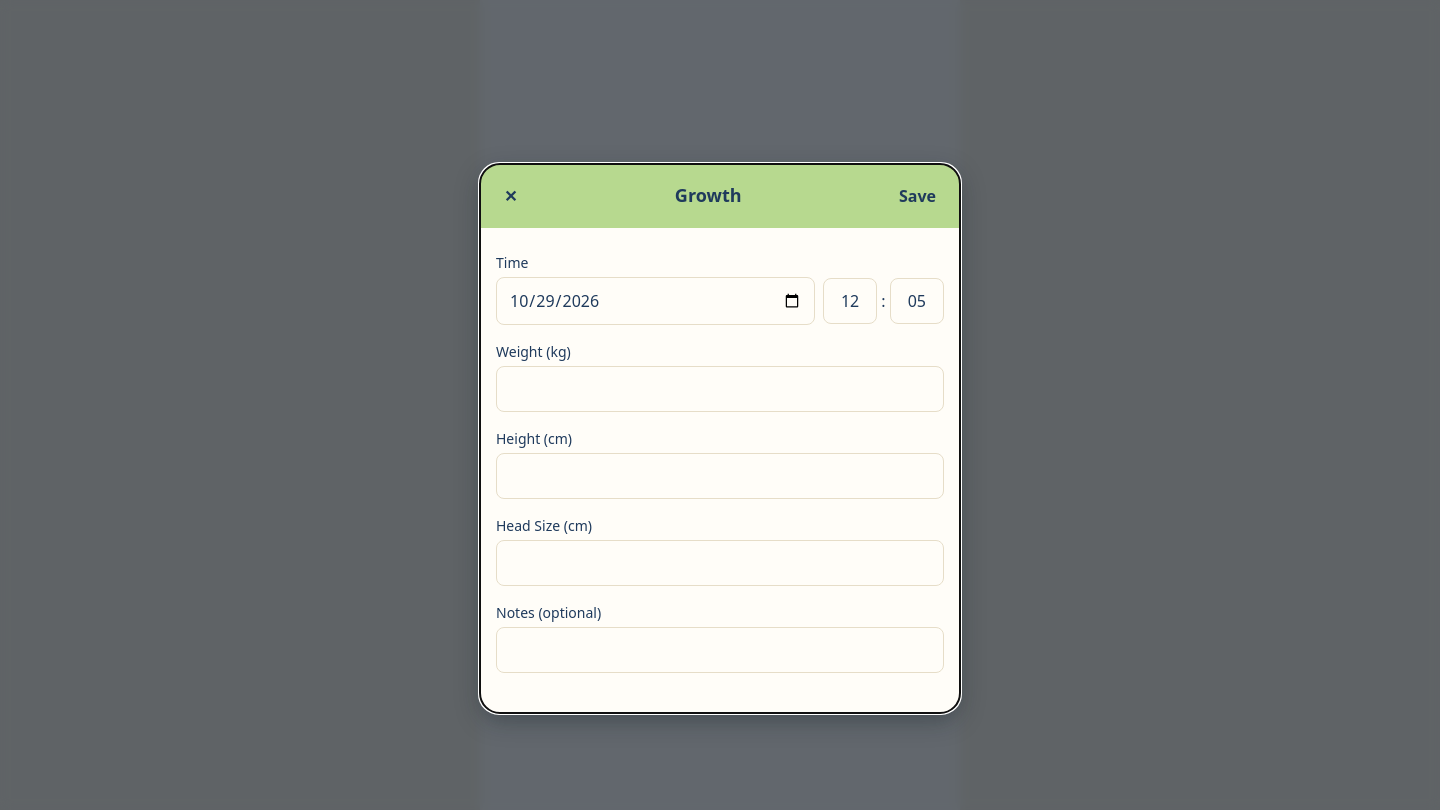
GrowthForm › refuses a weight of -1 with a message under the field
In the number field labelled "Weight (kg)": (720, 389) [496,366,944,412], type "-1"
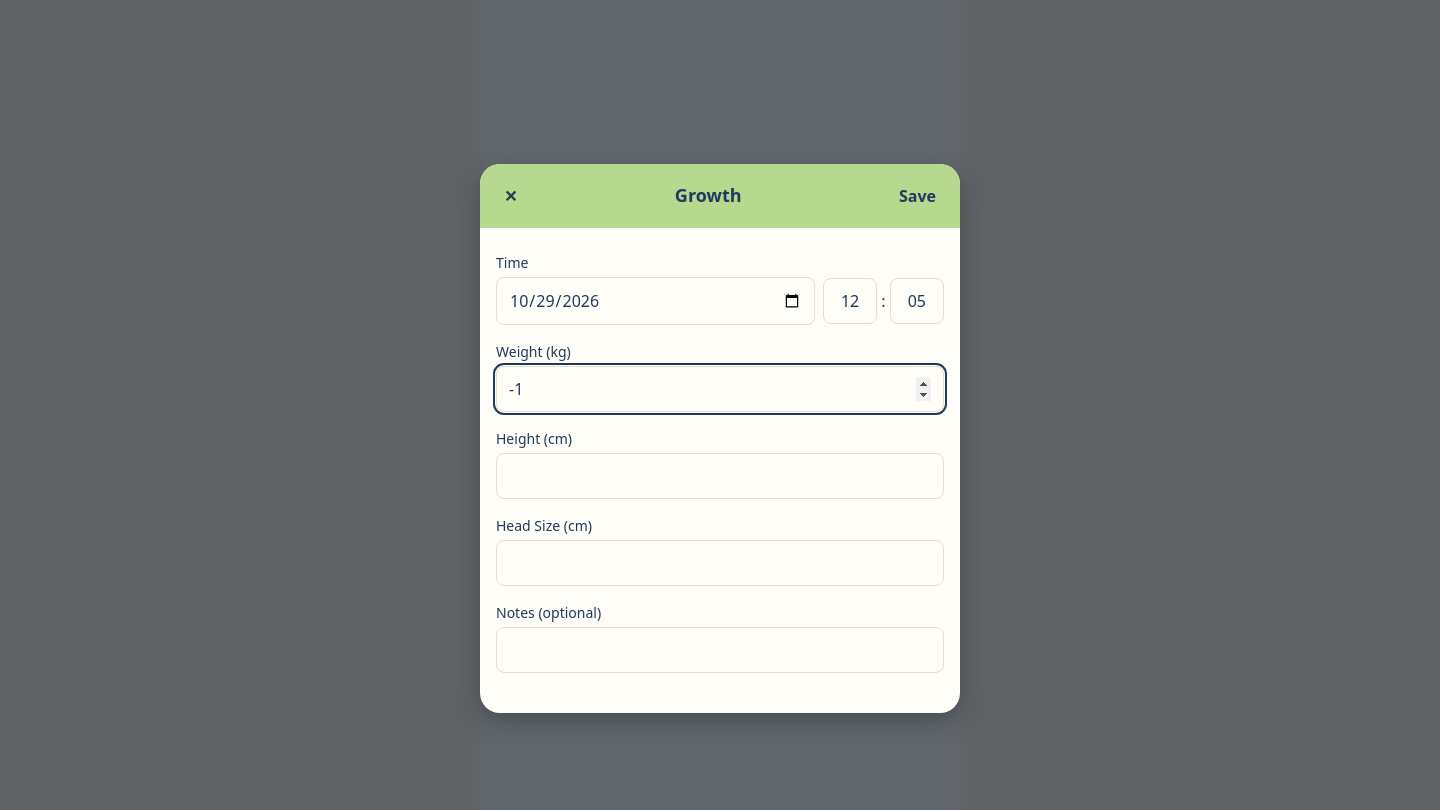
Click the button "Save": (918, 196) [891,180,944,212]
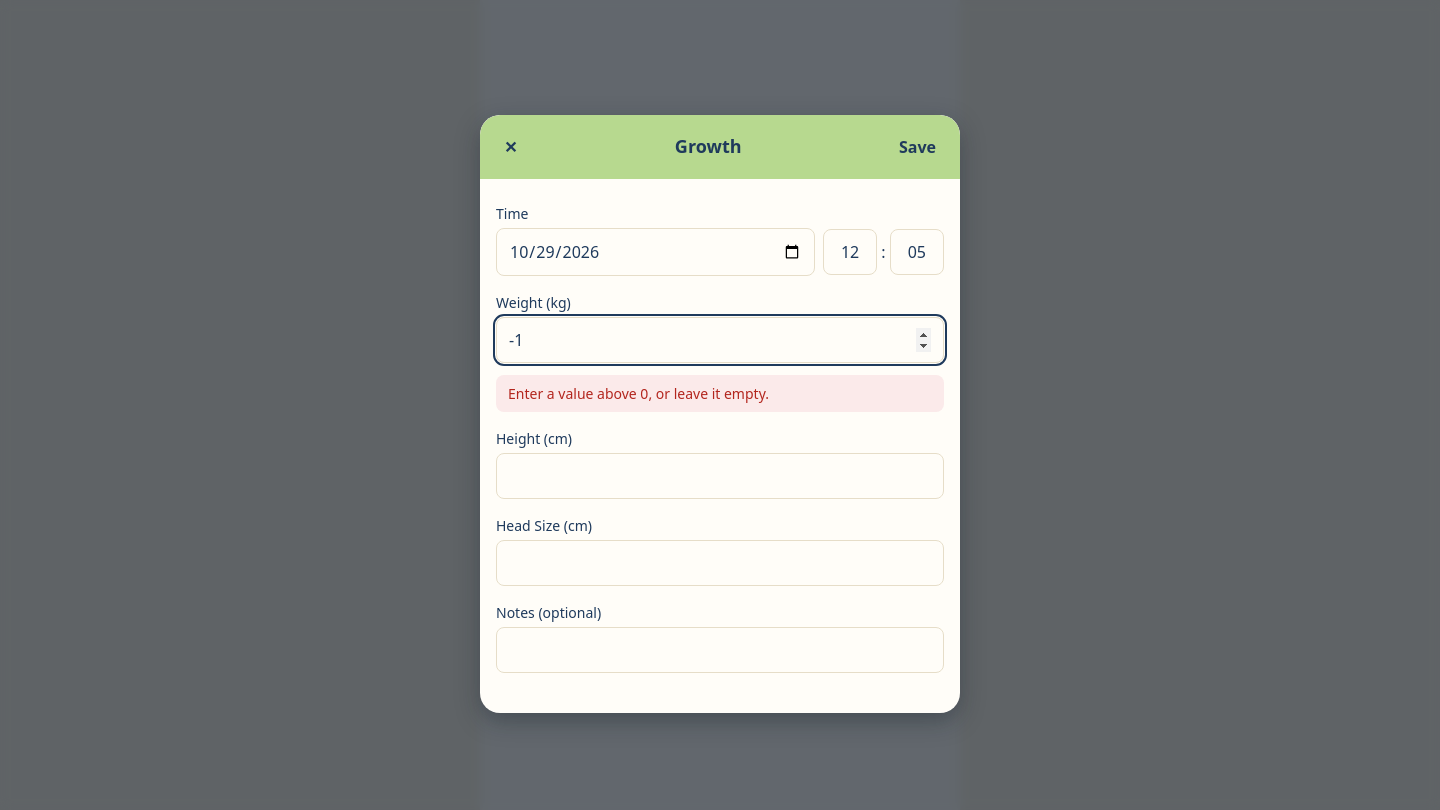
Now the message shows "Enter a value above 0", box [508,384,769,403]
